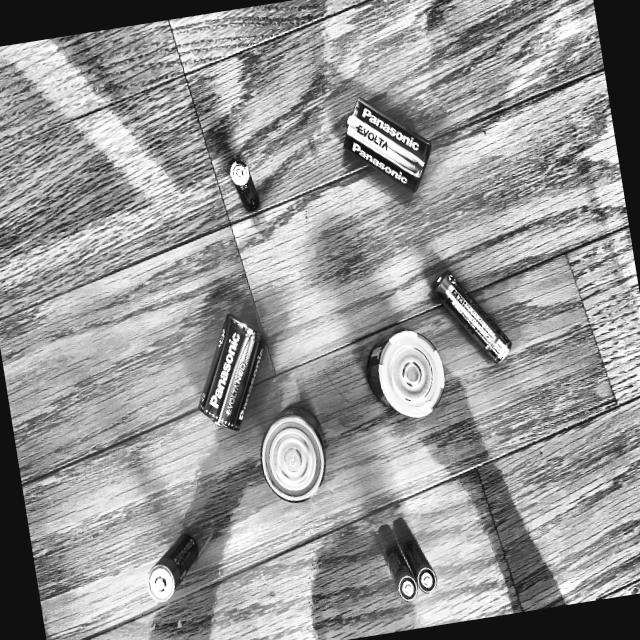drycell: (182, 302, 286, 438), (136, 530, 208, 606)
